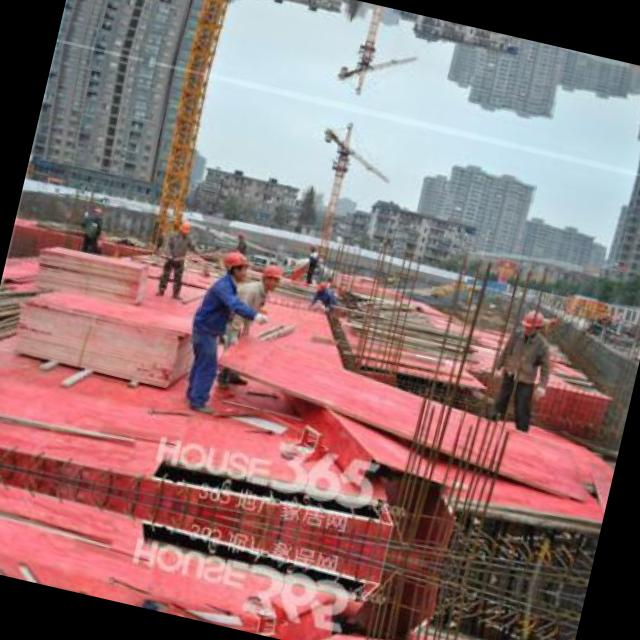helmet: (216, 245, 254, 283), (514, 302, 545, 338), (258, 258, 288, 294), (175, 216, 192, 238)
